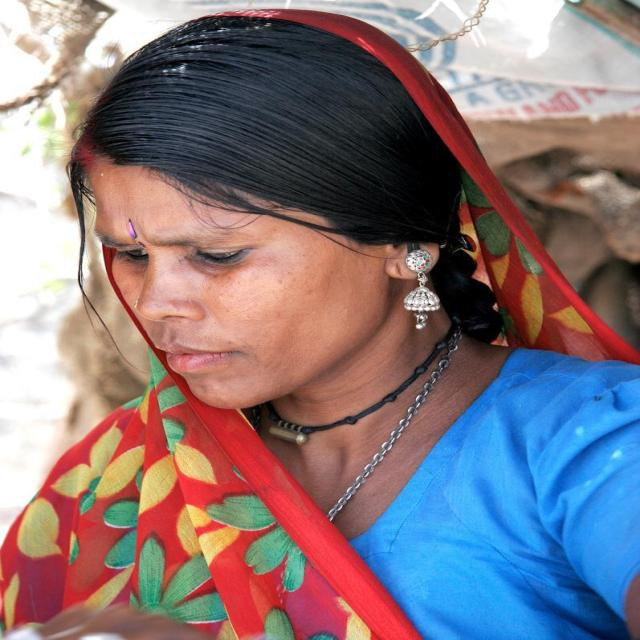Eyeclosed: (196, 245, 254, 268), (121, 244, 148, 268)
